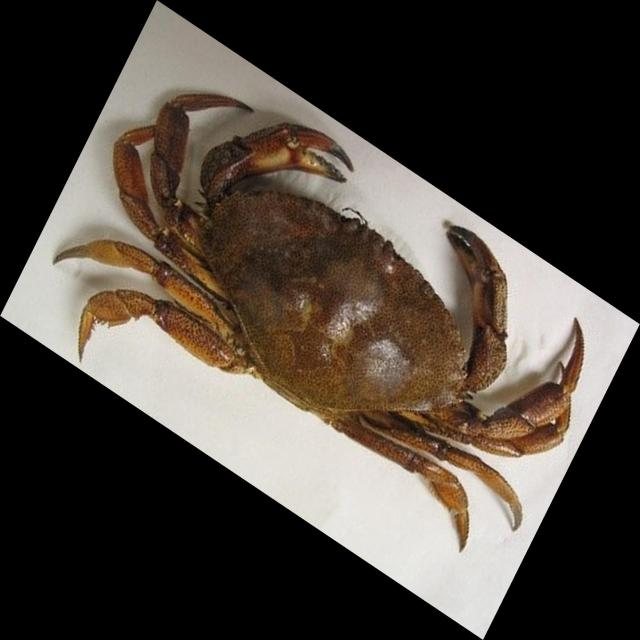Native Rock crab: (54, 92, 585, 550)
